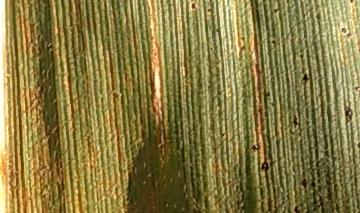tarspot: (341, 100, 357, 126), (288, 110, 303, 130), (257, 158, 273, 174), (247, 140, 264, 155), (297, 70, 313, 85), (291, 199, 305, 213), (266, 34, 279, 47), (339, 22, 349, 38), (298, 177, 309, 191), (270, 4, 282, 16), (237, 33, 251, 43), (188, 1, 198, 13), (313, 9, 322, 22), (263, 88, 272, 101), (296, 51, 307, 61), (323, 176, 333, 187), (205, 6, 214, 15), (355, 139, 360, 152), (345, 1, 359, 4)
